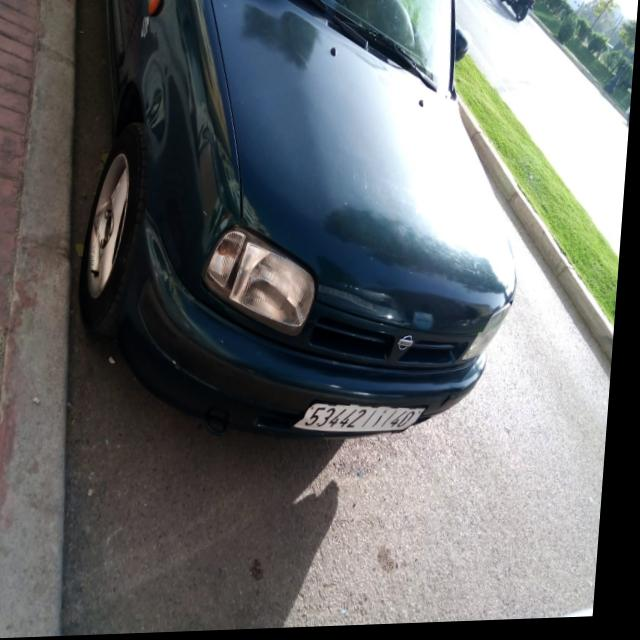License-Plate: (301, 407, 431, 436)
